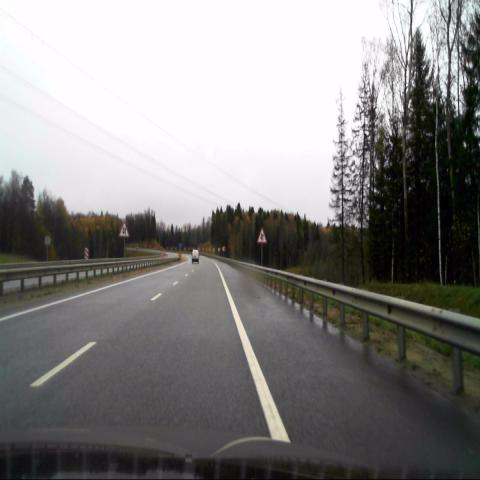1_21: (256, 228, 266, 244), (119, 222, 129, 238)
